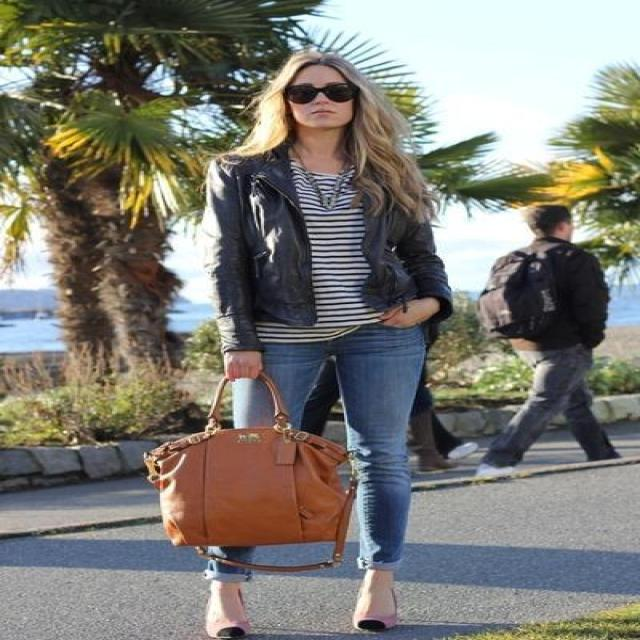bag: (142, 422, 356, 550)
jacket: (187, 147, 456, 345)
pants: (189, 320, 438, 575)
shirt: (258, 158, 368, 341)
shoe: (218, 620, 392, 639)
sunglass: (282, 64, 320, 115)
